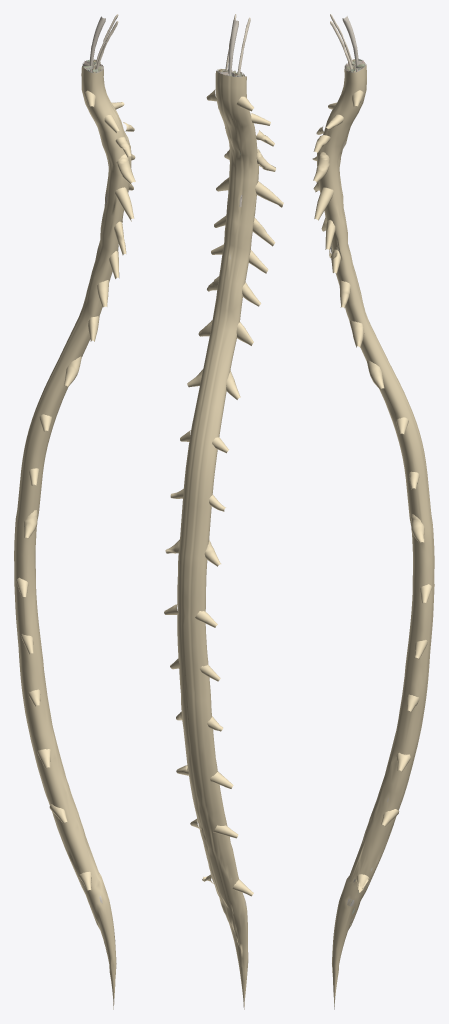
Rendered from body-spinal-cord.lod0.glb.
The picture shows the model from 3 angles, left to right: view 1: azimuth 90°, elevation 25°; view 2: azimuth 150°, elevation 25°; view 3: azimuth 270°, elevation 25°; orthographic projection.
Parts seen in each view (by area): view 1: spinal-dura; view 2: spinal-dura; view 3: spinal-dura.
Boxes of the visible parts, x1=… form: spinal-dura: x1=14, y1=66, x2=135, y2=1009; spinal-dura: x1=164, y1=71, x2=283, y2=1009; spinal-dura: x1=312, y1=64, x2=434, y2=1006.
Bounding box in the file's own units: 0.0346 × 0.4901 × 0.0545.
